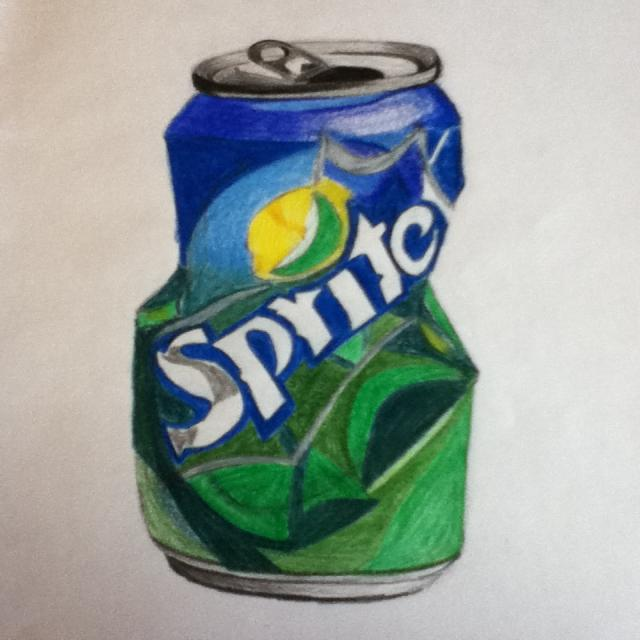aluminum_can: (132, 40, 477, 601)
